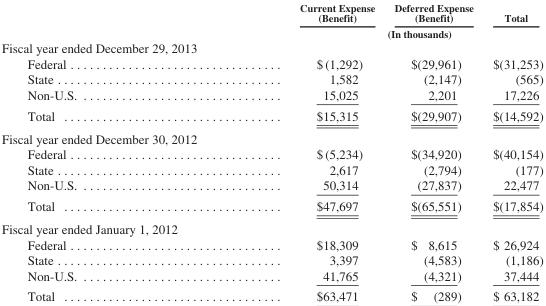table: (0, 1, 542, 303)
table column: (187, 1, 384, 303), (0, 1, 187, 303), (384, 1, 482, 303), (482, 1, 542, 303)
table column header: (0, 1, 542, 39)
table projected row header: (0, 126, 542, 146), (0, 217, 542, 236), (0, 39, 542, 55)
table row: (0, 1, 542, 25), (0, 104, 542, 126), (0, 195, 542, 217), (0, 126, 542, 146), (0, 217, 542, 236), (0, 86, 542, 104), (0, 177, 542, 195), (0, 267, 542, 285), (0, 285, 542, 303), (0, 39, 542, 55), (0, 55, 542, 71), (0, 161, 542, 177), (0, 236, 542, 252), (0, 71, 542, 86), (0, 146, 542, 161), (0, 252, 542, 267), (0, 25, 542, 39)
table spanning cell: (187, 25, 542, 39)
